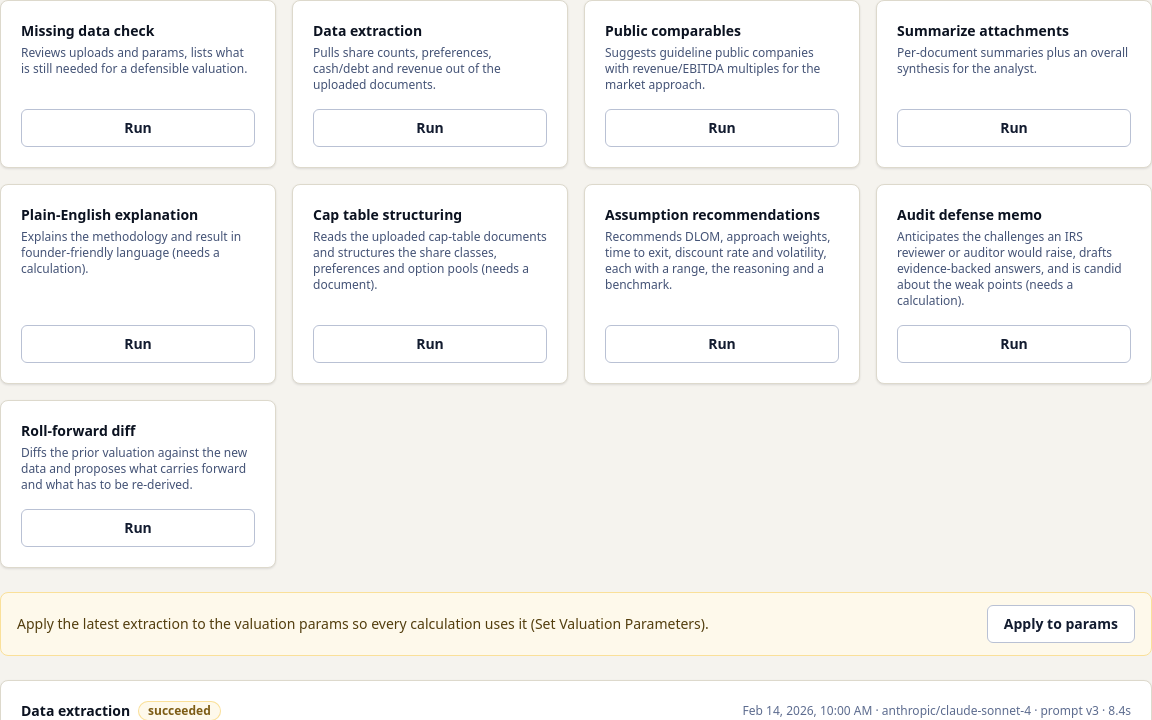
AiPanel › applying an extraction › applies the extraction to the params
Click the button "Apply to params": x=1061, y=624 [987,605,1135,643]
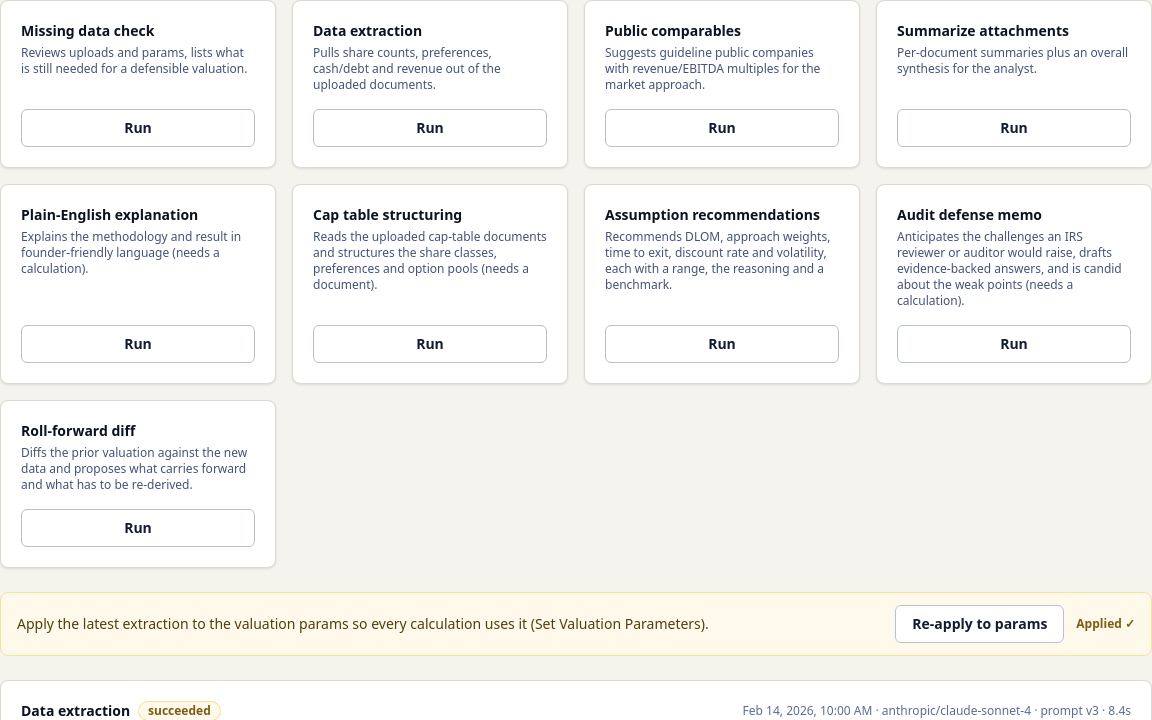
Expected: the text "Applied ✓" is shown, [1076,616,1135,632]
